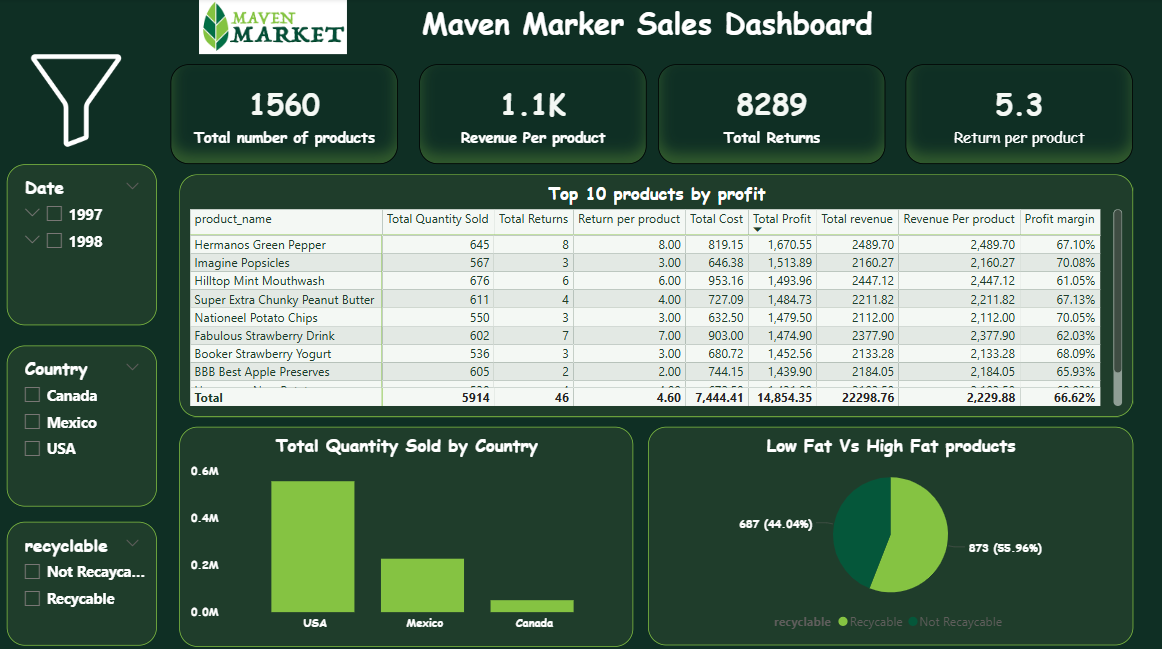

This screenshot's page, from the dashboard's own definition file:
{"tool":"powerbi","page":{"name":"Products","canvas":[1280,720],"ordinal":1},"visuals":[{"type":"card","fields":{"Values":["Measur Table.Total number of products"]},"box":[189.4,72.7,249.7,109.8],"z":0},{"type":"card","fields":{"Values":["Measur Table.Revenue Per product"]},"box":[462.4,72.7,249.7,109.8],"z":1000},{"type":"card","fields":{"Values":["Measur Table.Total Returns"]},"box":[724.5,72.7,249.7,109.8],"z":2000},{"type":"card","fields":{"Values":["Measur Table.Return per product"]},"box":[996.2,72.7,249.7,109.8],"z":3000},{"type":"textbox","box":[164.7,0,1096.4,72.7],"z":4000},{"type":"image","box":[183.9,0,236,61.7],"z":5000},{"type":"pivotTable","title":"Top 10 products by profit","fields":{"Rows":["MavenMarket_Products.product_name"],"Values":["Measur Table.Total Quantity Sold","Measur Table.Total Returns","Measur Table.Return per product","Measur Table.Total Cost","Measur Table.Total Profit","Measur Table.Total revenue","Measur Table.Revenue Per product","Measur Table.Profit margin"]},"box":[199,193.5,1047,266.2],"z":6000},{"type":"columnChart","title":"Total Quantity Sold by Country","fields":{"Y":["Measur Table.Total Quantity Sold"],"Category":["MavenMarket_Stores.store_country"]},"box":[199,470.7,498.1,241.5],"z":7000},{"type":"pieChart","title":"Low Fat Vs High Fat products","fields":{"Y":["Measur Table.Total number of products"],"Category":["MavenMarket_Products.recyclable"]},"box":[713.6,470.7,532.4,240.1],"z":8000},{"type":"slicer","fields":{"Values":["MavenMarket_Calendar.date.Variation.Date Hierarchy.Year","MavenMarket_Calendar.date.Variation.Date Hierarchy.Quarter","MavenMarket_Calendar.date.Variation.Date Hierarchy.Month","MavenMarket_Calendar.date.Variation.Date Hierarchy.Day"]},"box":[9.6,182.5,164.7,177],"z":9000},{"type":"slicer","fields":{"Values":["MavenMarket_Stores.store_country"]},"box":[9.6,381.5,164.7,177],"z":10000},{"type":"image","box":[9.6,61.7,155.1,101.5],"z":11000},{"type":"slicer","fields":{"Values":["MavenMarket_Products.recyclable"]},"box":[9.6,575,164.7,135.8],"z":12000}]}

Visuals, with their boxes in screenshot pixels (x1, y1, x2, y2), scaled from the page's 1280x720 canvas onto the 1162x649 screenshot:
card - Measur Table.Total number of products: left=172, top=66, right=399, bottom=165
card - Measur Table.Revenue Per product: left=420, top=66, right=646, bottom=165
card - Measur Table.Total Returns: left=658, top=66, right=884, bottom=165
card - Measur Table.Return per product: left=904, top=66, right=1131, bottom=165
textbox: left=150, top=0, right=1145, bottom=66
image: left=167, top=0, right=381, bottom=56
"Top 10 products by profit" pivotTable: left=181, top=174, right=1131, bottom=414
"Total Quantity Sold by Country" columnChart: left=181, top=424, right=633, bottom=642
"Low Fat Vs High Fat products" pieChart: left=648, top=424, right=1131, bottom=641
slicer - MavenMarket_Calendar.date.Variation.Date Hierarchy.Year x MavenMarket_Calendar.date.Variation.Date Hierarchy.Quarter: left=9, top=165, right=158, bottom=324
slicer - MavenMarket_Stores.store_country: left=9, top=344, right=158, bottom=503
image: left=9, top=56, right=150, bottom=147
slicer - MavenMarket_Products.recyclable: left=9, top=518, right=158, bottom=641
